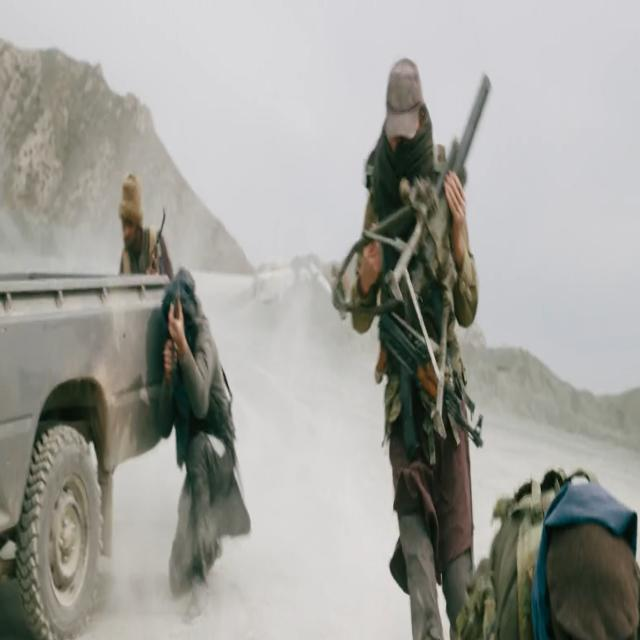terrorist: (330, 58, 492, 640), (156, 269, 252, 593), (119, 175, 172, 274)
